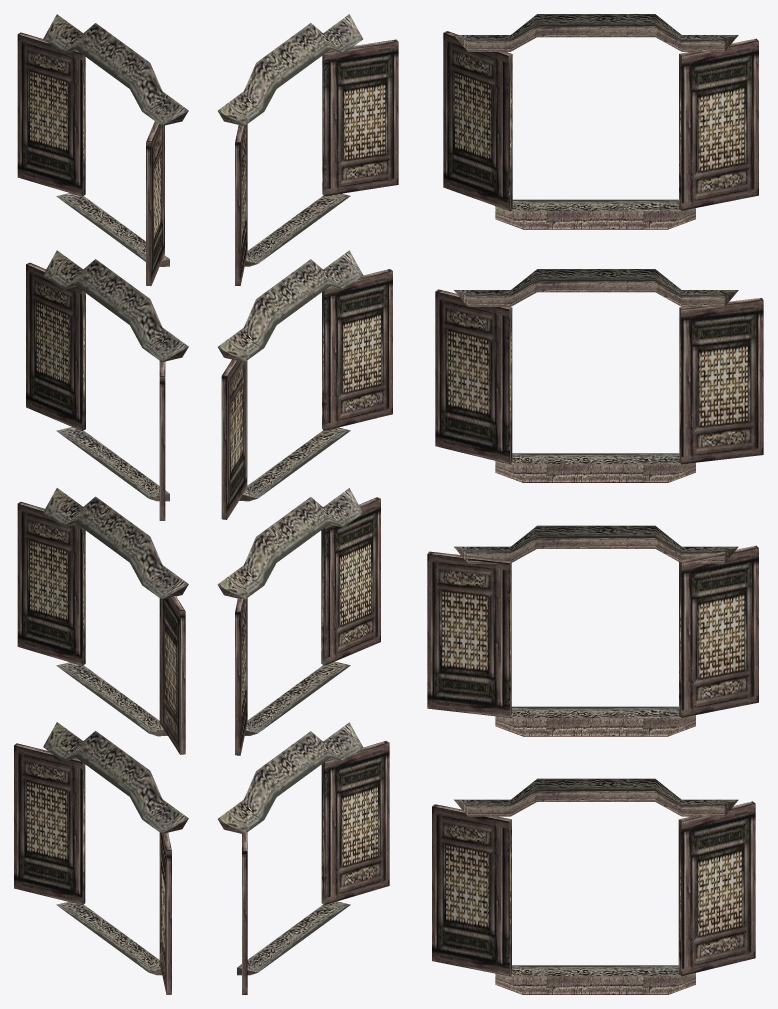
3 renders of one model, left to right at view 1: azimuth 30°, elevation 25°; view 2: azimuth 150°, elevation 25°; view 3: azimuth 270°, elevation 25°, orthographic. The views are drawn at different scales.
Visible parts, largest first — view 1: Box565; view 2: Box565; view 3: Box565.
Part boxes in pixels (x1,y1,x2,y2): Box565: (14,14,188,994); Box565: (217,14,398,994); Box565: (427,14,763,994).
Size of the model in its own units: 21.28 by 383 by 119.
